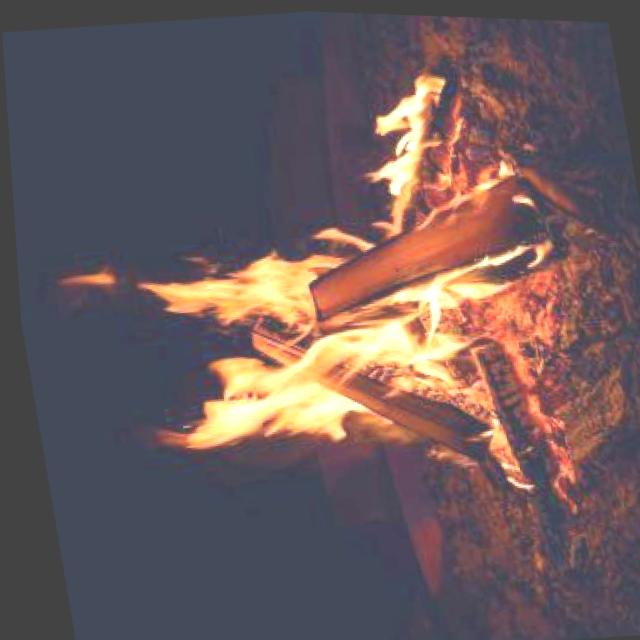helmet: (50, 51, 566, 483)
